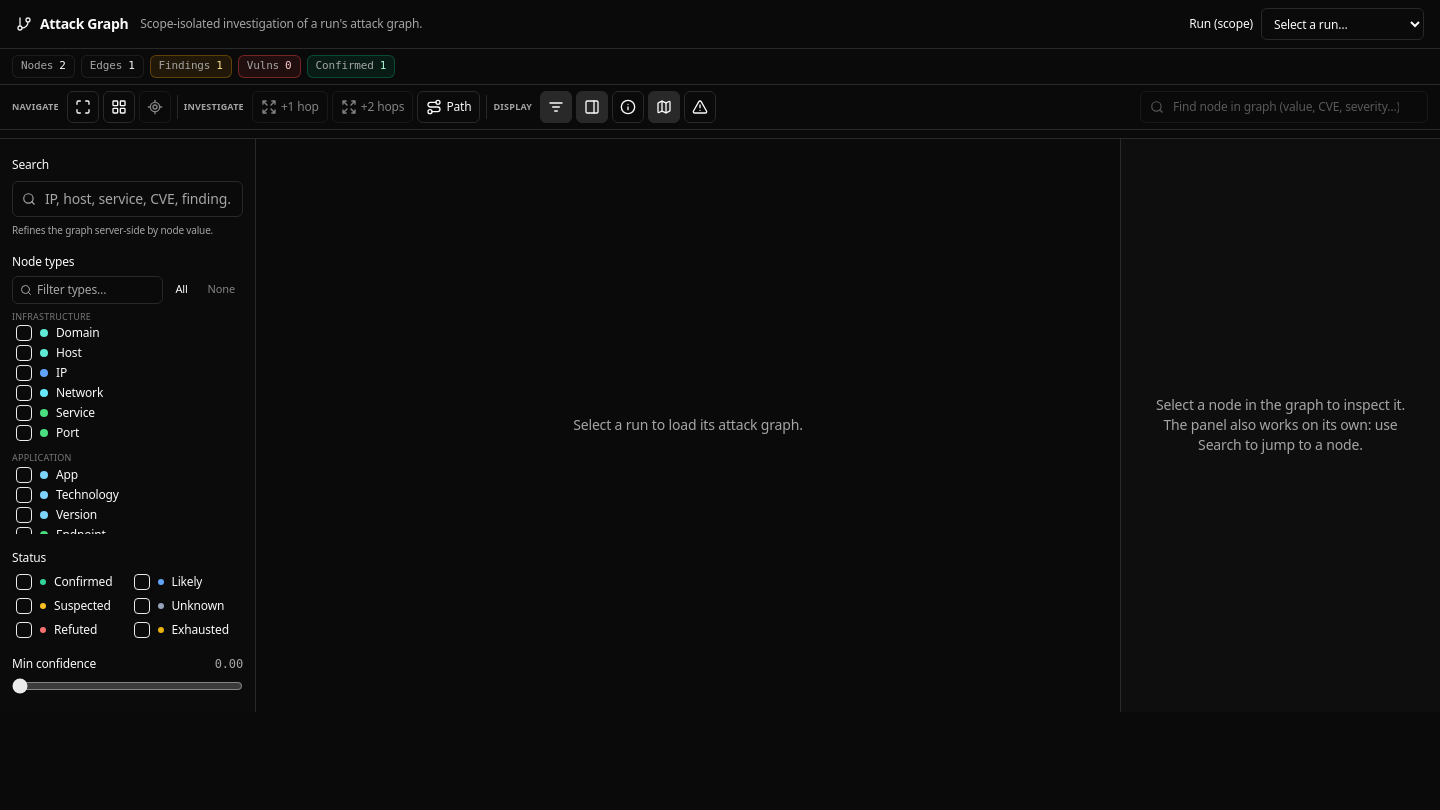
AttackGraphPage › renders an empty state when the run has no nodes
The width and height of the screenshot is (1440, 810).
Step 1. Select "10.0.0.5 (10.0.0.5) — r1" in the dropdown labelled "Run (scope)" → (1342, 24), box [1261,8,1424,40]
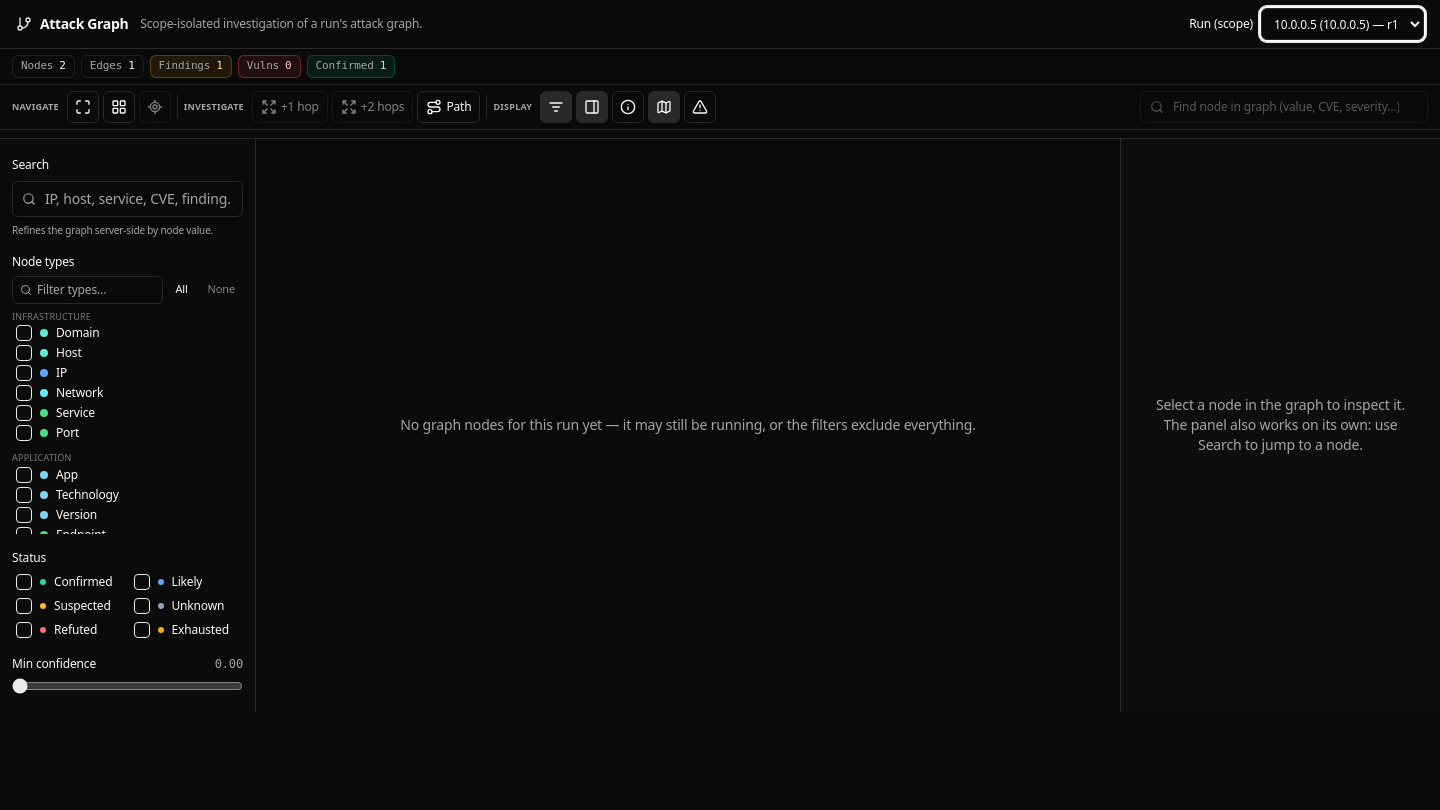
Expected: the text "No graph nodes for this run yet" is shown, [400,415,976,434]
